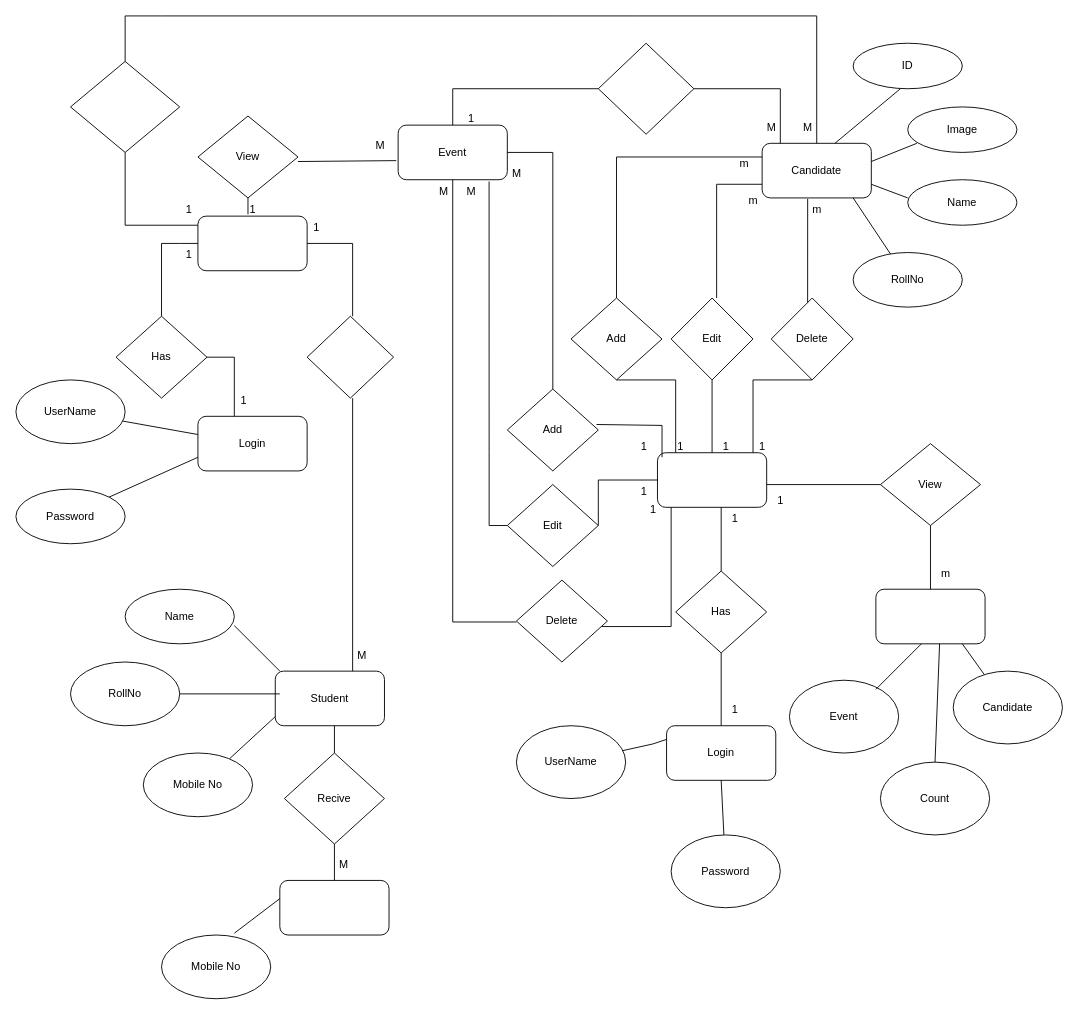
This 1078x1015 diagram has some shape labels left out. The shapes that lost their labels are listed below. From the top down, each one's box as (x1, y1, x2, y2) in pixels, then its label:
(70, 61, 180, 152): Vote
(597, 42, 694, 134): Include
(197, 215, 307, 271): User
(306, 315, 394, 398): Fill Details
(657, 452, 767, 507): Admin
(875, 588, 985, 644): Result
(279, 880, 389, 935): SMS
